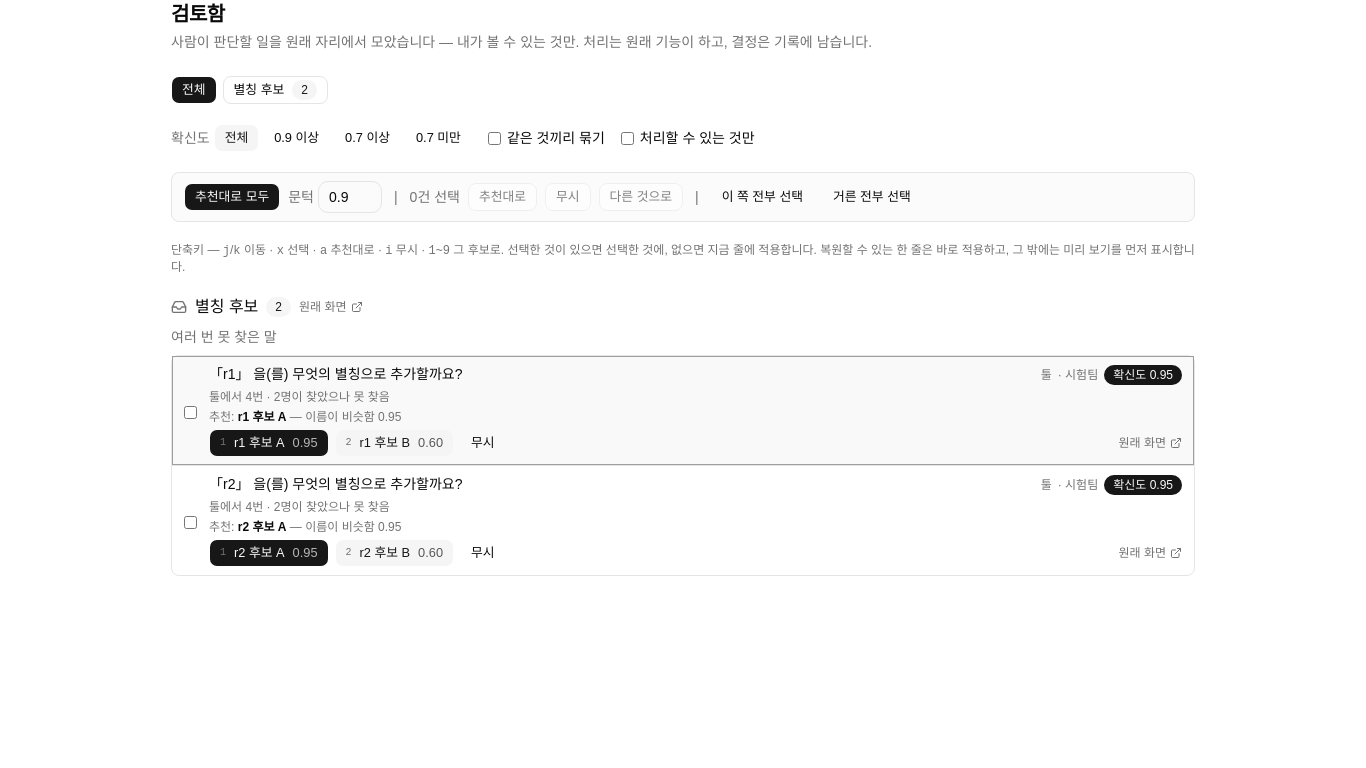
it: 검토함 › 추천대로 모두 — 문턱과 거르기로 미리 보고, 막힌 것은 따로 센 뒤 적용한다
The width and height of the screenshot is (1366, 768).
expect the text "「r1」 을(를) 무엇의 별칭으로 추가할까요?" is shown: met, box [209,364,462,384]
Replace the text in the field labelled "문턱" with "0.85" at [350, 197], box [318,181,382,213]
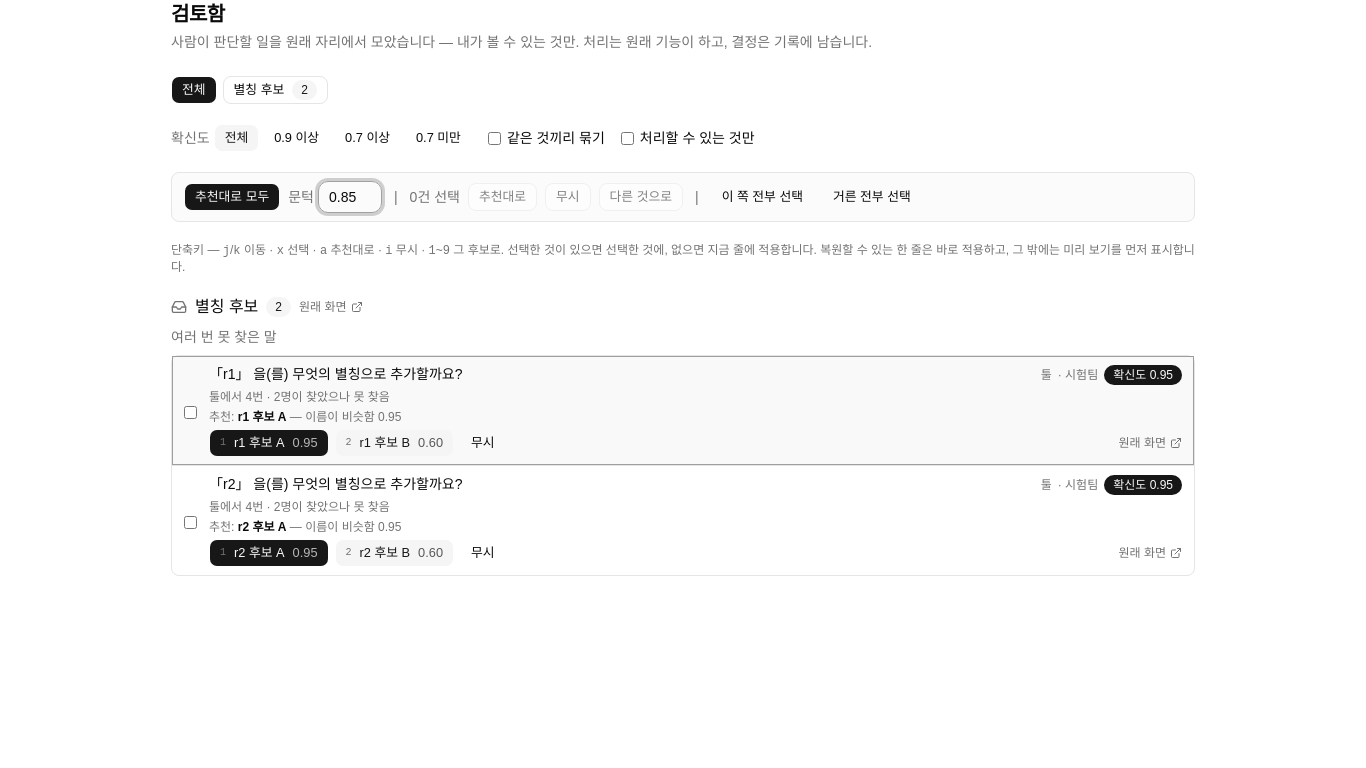
Click the button "추천대로 모두" at [232, 197], box [184,183,280,211]
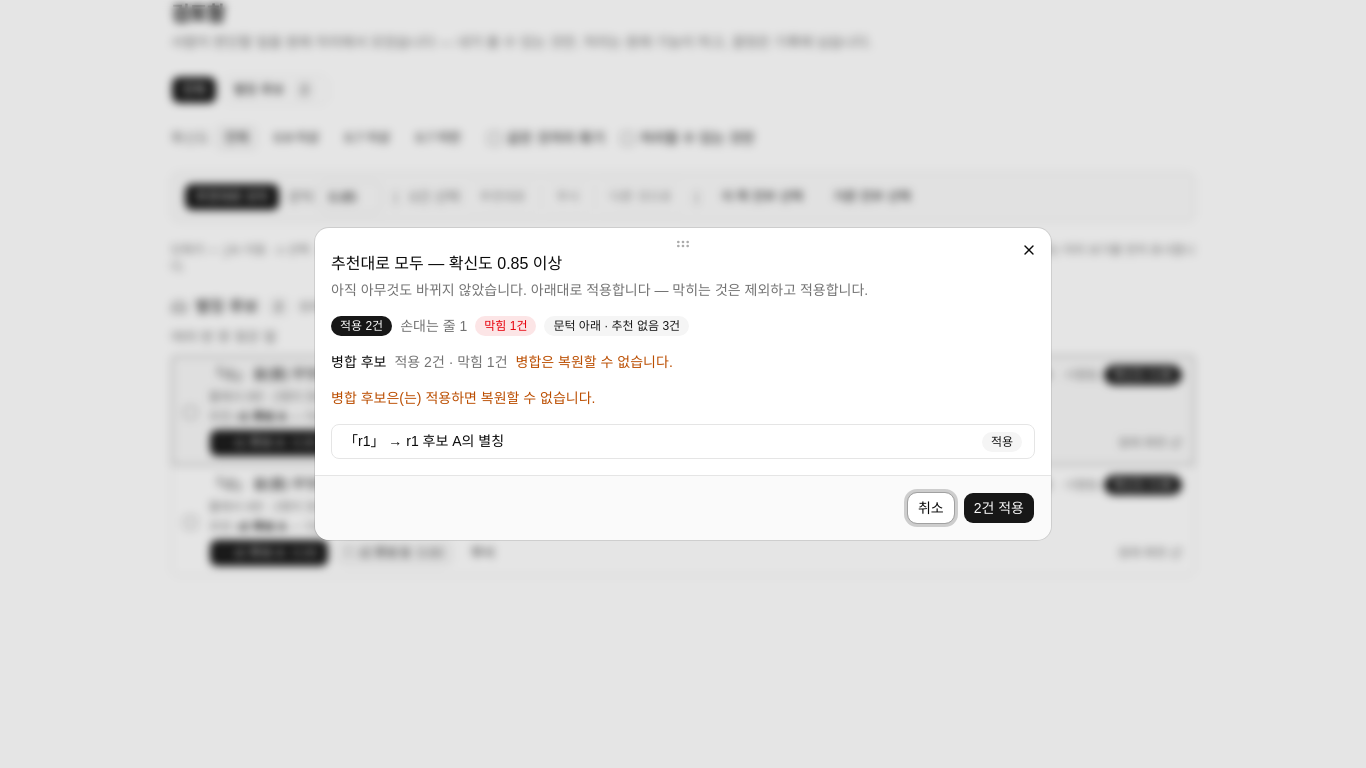
expect the text "적용 2건" is shown: met, box [331,316,392,336]
expect the text "막힘 1건" is shown: met, box [475,316,536,336]
expect the text "문턱 아래 · 추천 없음 3건" is shown: met, box [544,316,689,336]
Click the button "2건 적용" at [999, 508], box [963,492,1035,524]
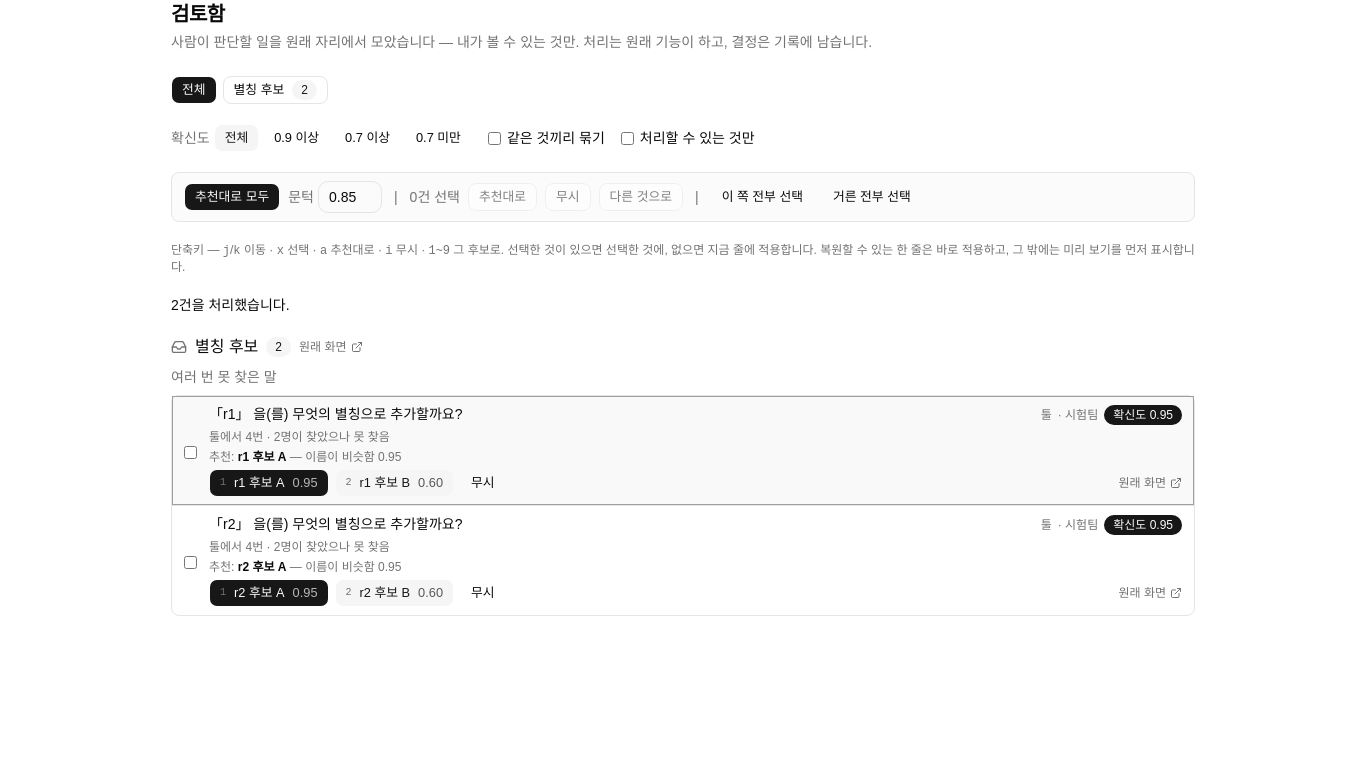
expect the text "2건을 처리했습니다." is shown: met, box [171,297,290,313]
